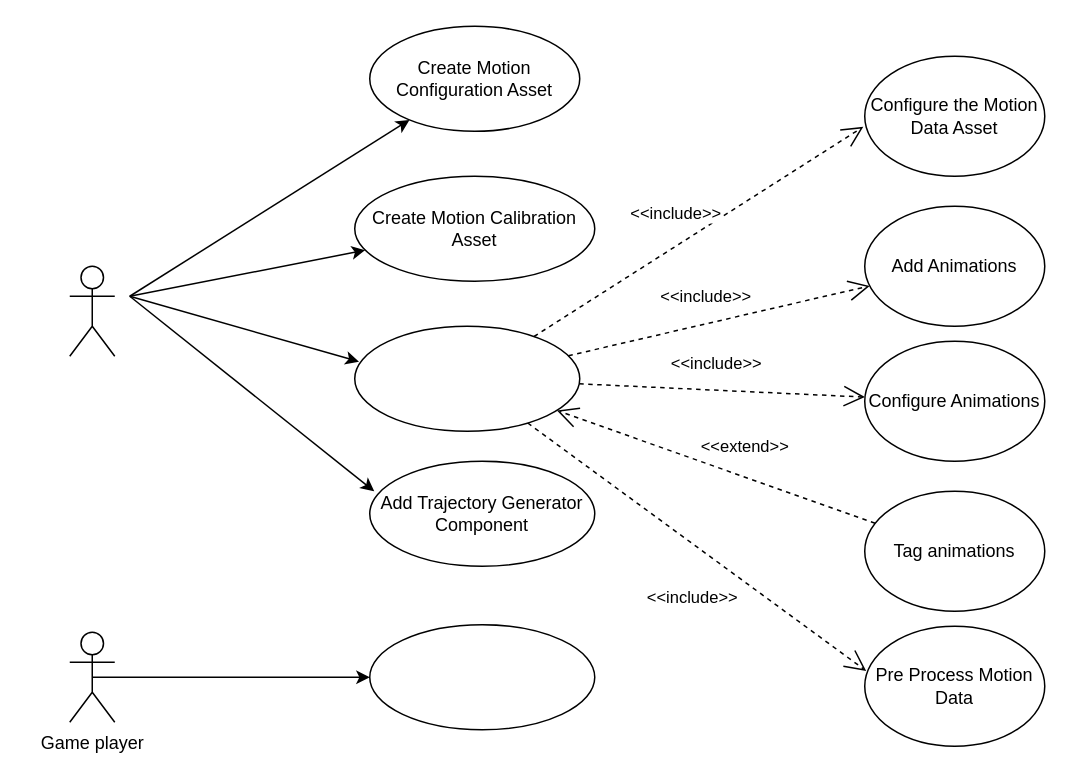
The diagram is 1071 pixels wide and 780 high, and some of its shapes have lost their labels. Here are the shapes that lost their labels. From the top down, the centre of each, then its label:
At point (91, 310): "Game developer".
At point (466, 378): "Create Motion Data Asset".
At point (481, 676): "Perform Motion Matching".
